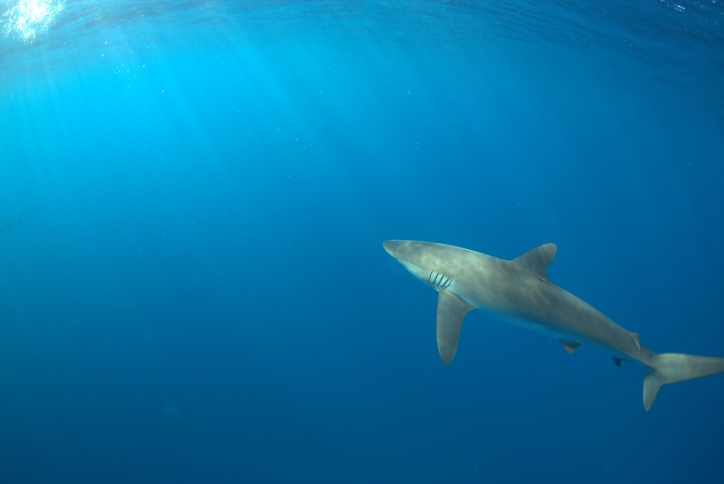Sedoso: (370, 223, 724, 421)
